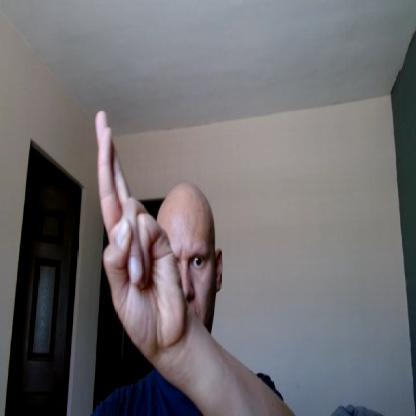R: (95, 108, 184, 354)
